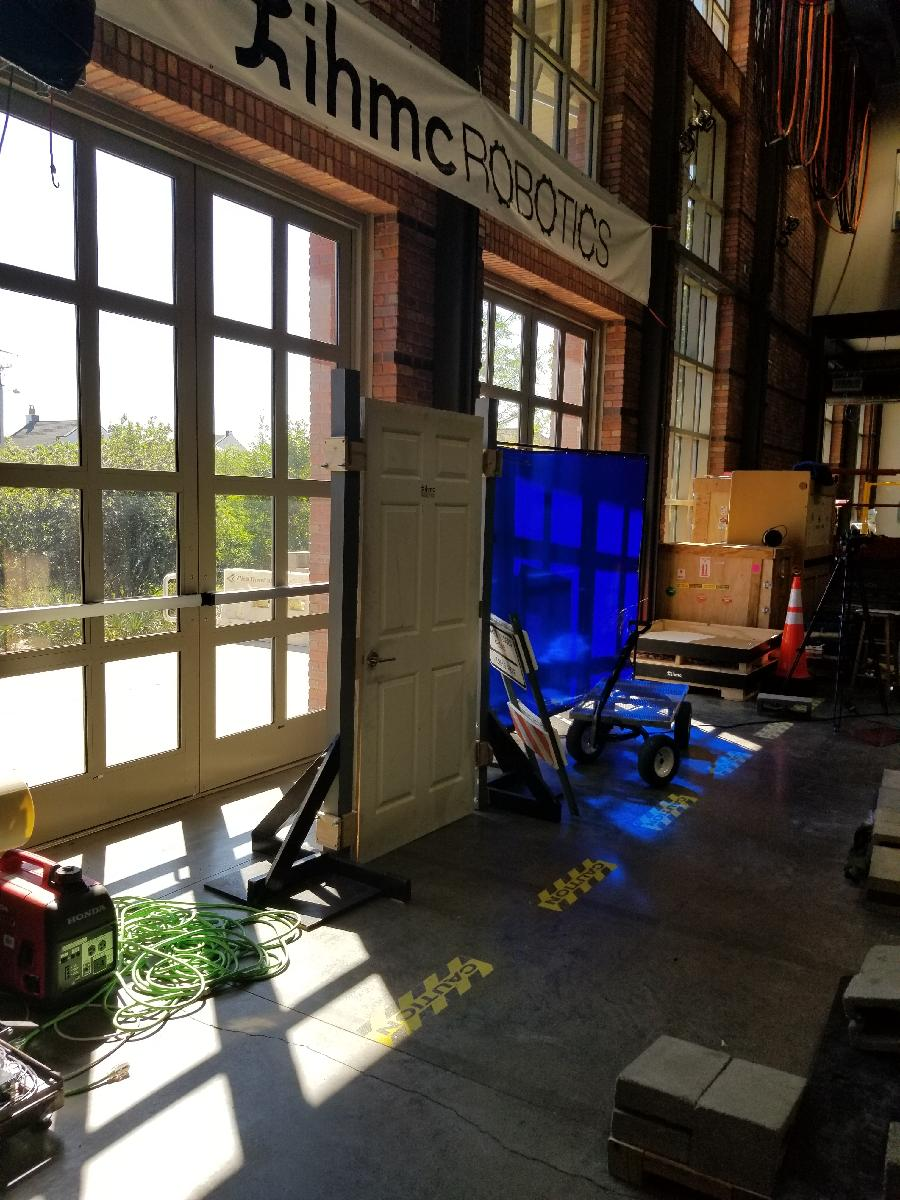door: (355, 392, 489, 868)
doorHandle: (364, 645, 397, 675)
